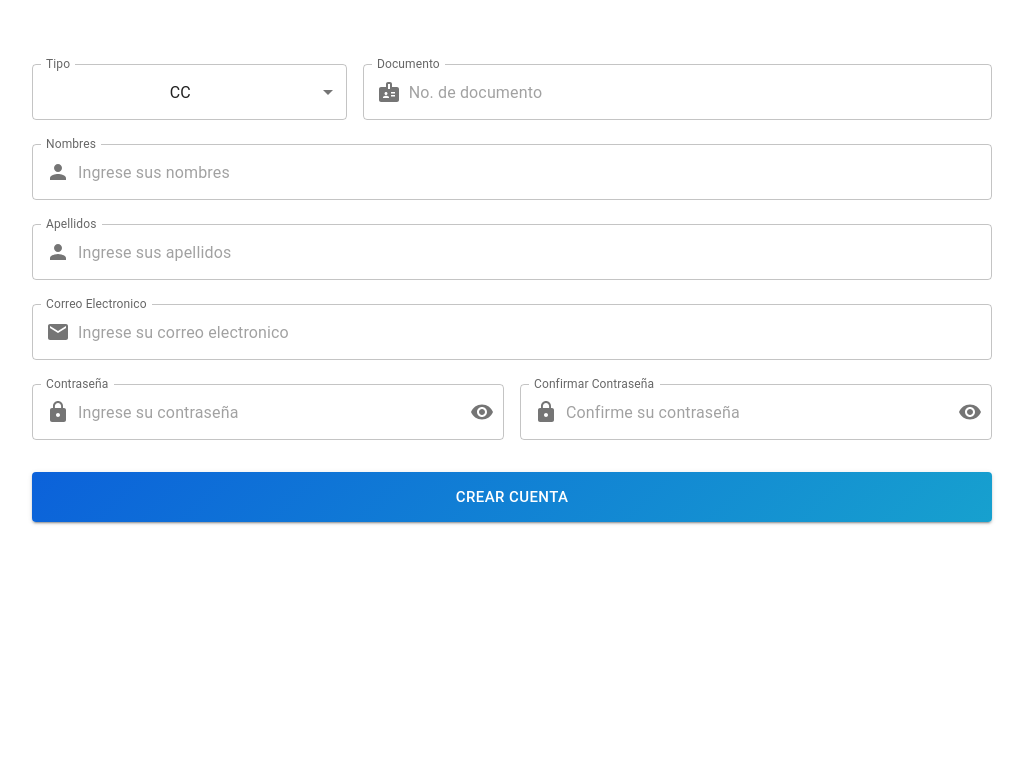
Test: RegisterForm › Register Flow › displays error message on failed registration
Type "12345678" into the field labelled "Documento" at (700, 92), box 409,64 -> 992,120
Type "Juan" into the field labelled "Nombres" at (535, 172), box 78,144 -> 992,200
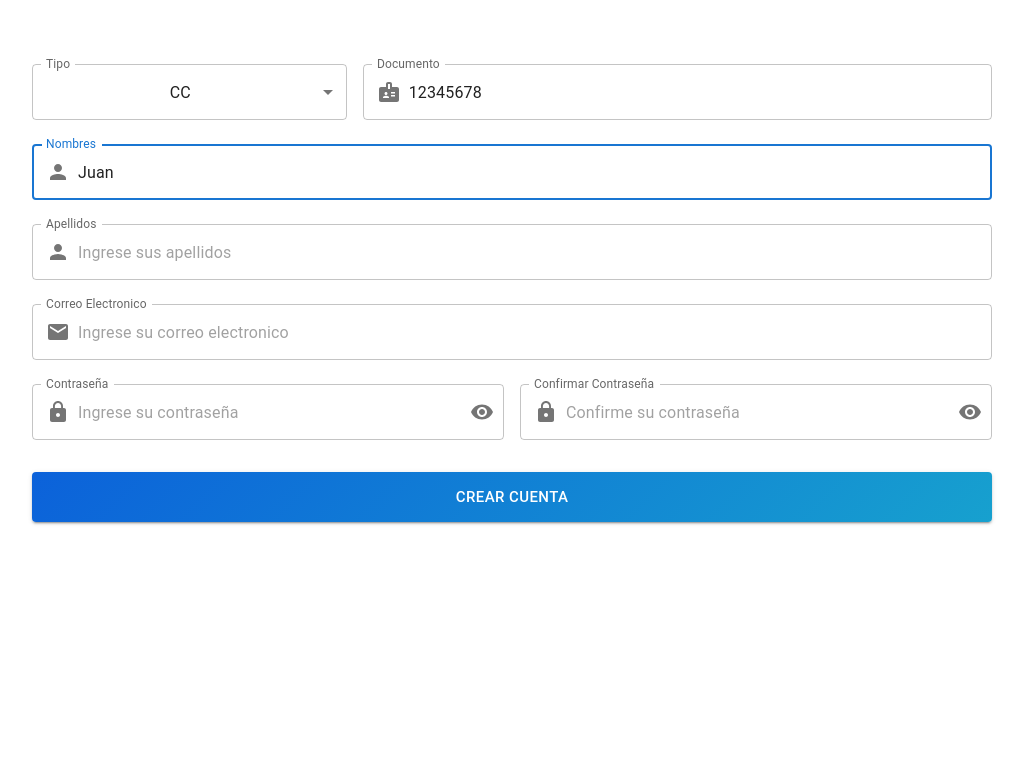
Type "Perez" into the field labelled "Apellidos" at (535, 252), box 78,224 -> 992,280
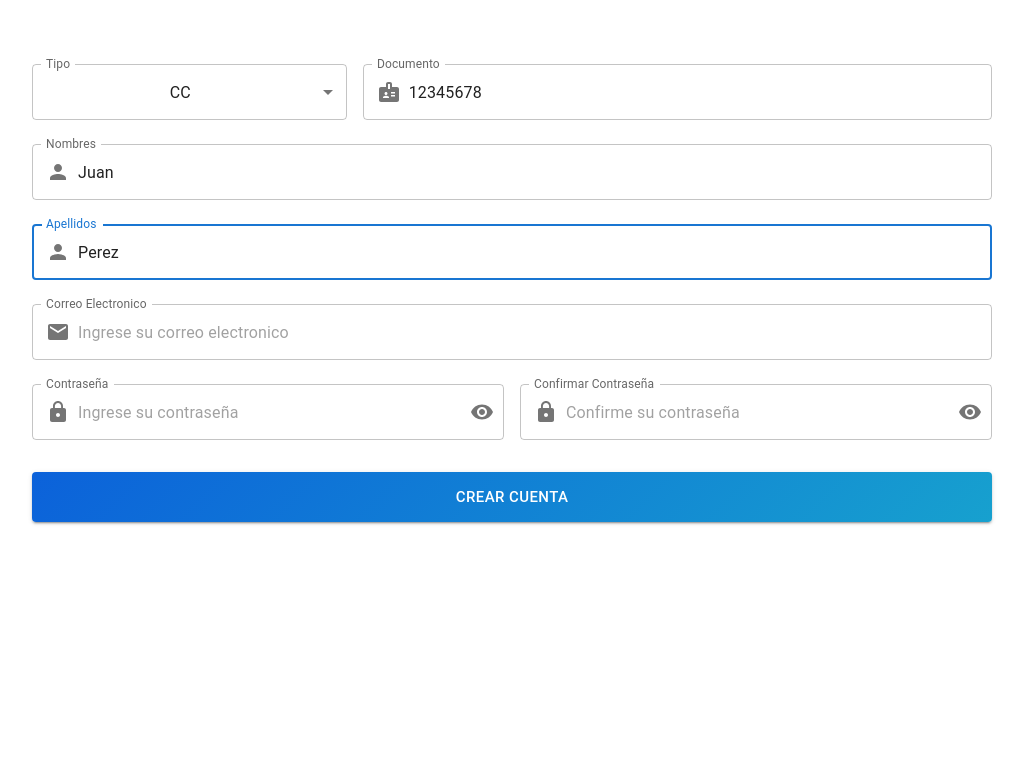
Type "existing@test.com" into the field labelled "Correo Electronico" at (535, 332), box 78,304 -> 992,360
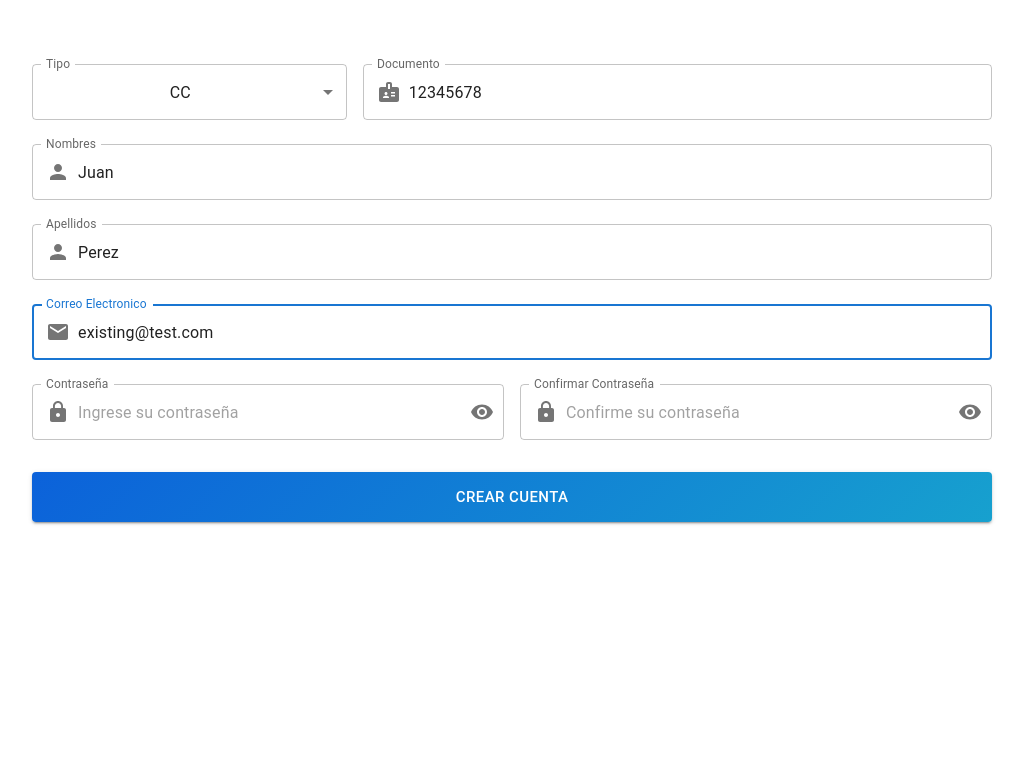
Type "Password1" into the password field with placeholder "Ingrese su contraseña" at (266, 412), box 78,384 -> 454,440
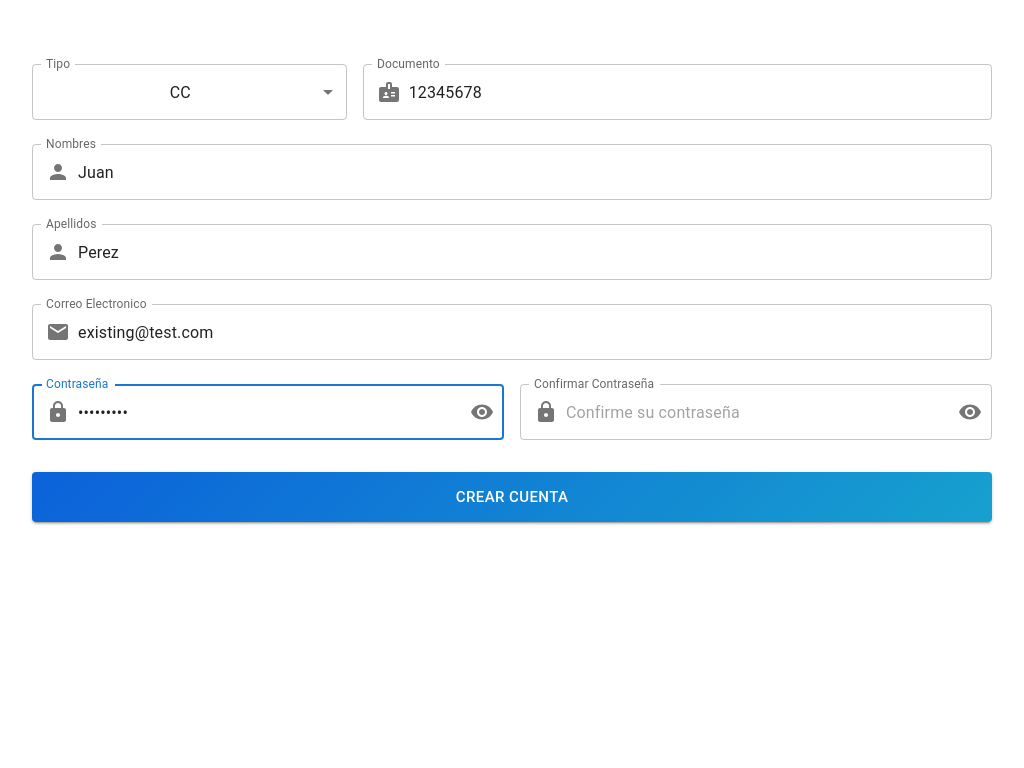
Type "Password1" into the password field with placeholder "Confirme su contraseña" at (754, 412), box 566,384 -> 942,440
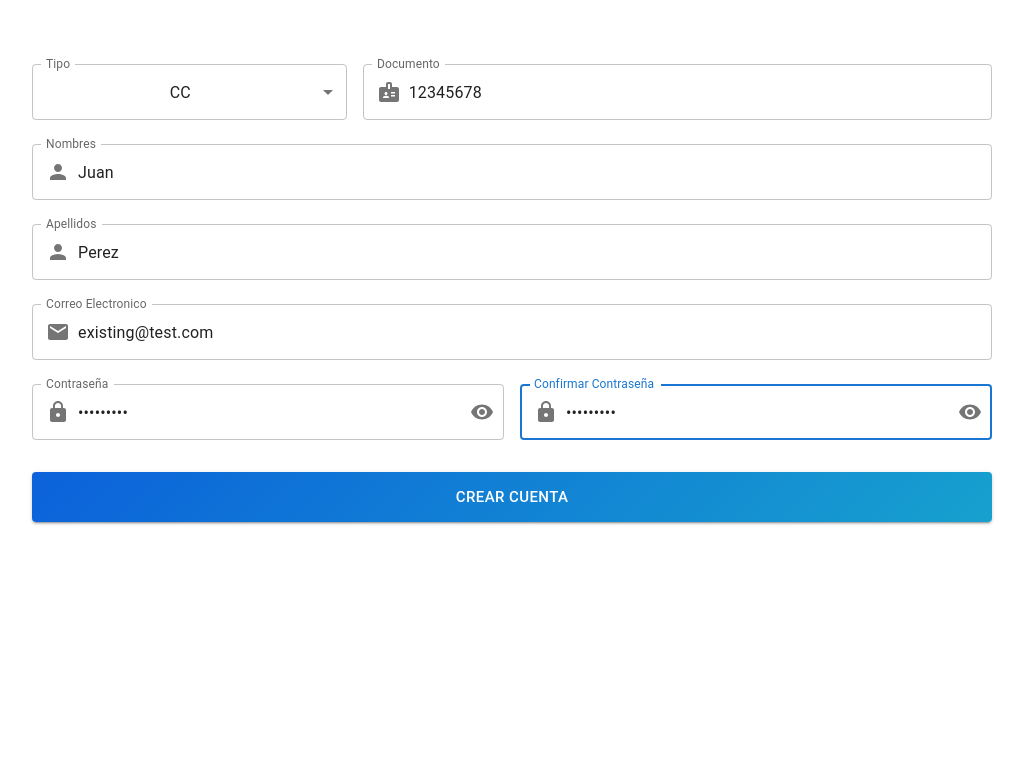
Click the button "Crear Cuenta" at (512, 497), box 32,472 -> 992,522
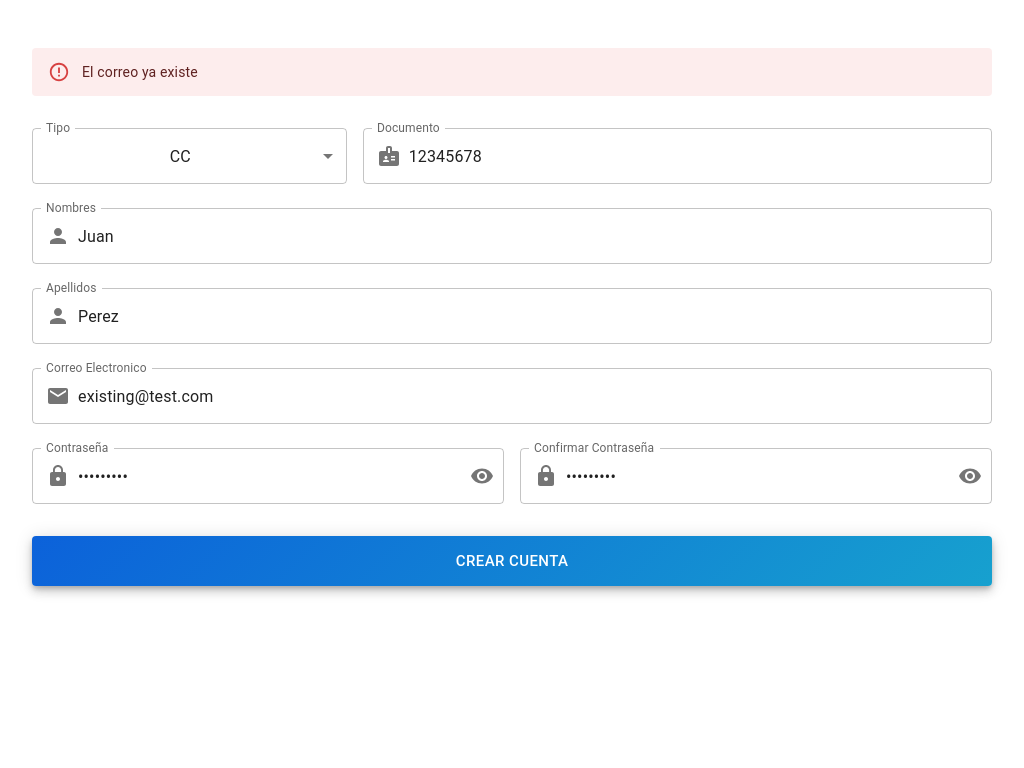
Check: the text "El correo ya existe" is shown, box 82,64 -> 198,80
